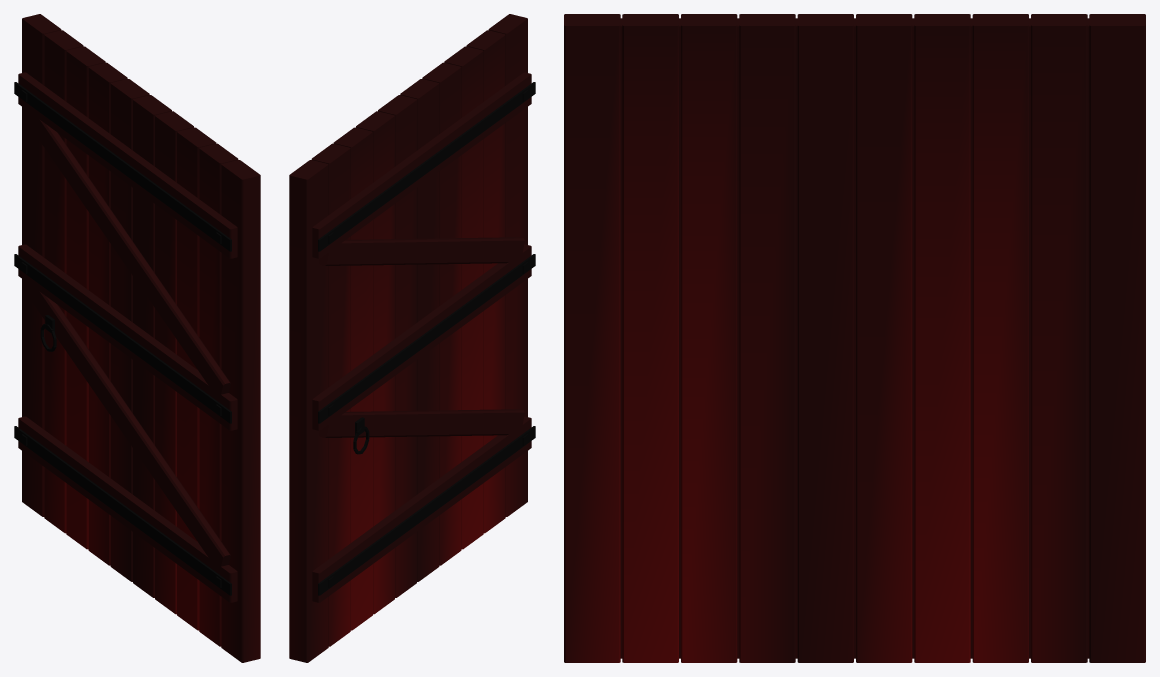
The model's file is SilverbrookGatehouse_GateR.fbx.
The picture shows the model from 3 angles, left to right: view 1: azimuth 30°, elevation 25°; view 2: azimuth 150°, elevation 25°; view 3: azimuth 270°, elevation 25°; orthographic projection. The views are drawn at different scales.
Visible parts, largest first — view 1: SM_SBGatehouse_GateR_Part; view 2: SM_SBGatehouse_GateR_Part; view 3: SM_SBGatehouse_GateR_Part.
Part boxes in pixels (x1,y1,x2,y2): SM_SBGatehouse_GateR_Part: [14, 14, 260, 662]; SM_SBGatehouse_GateR_Part: [289, 14, 535, 662]; SM_SBGatehouse_GateR_Part: [564, 14, 1145, 662].
Size of the model in its own units: 21.2 by 295 by 244.
